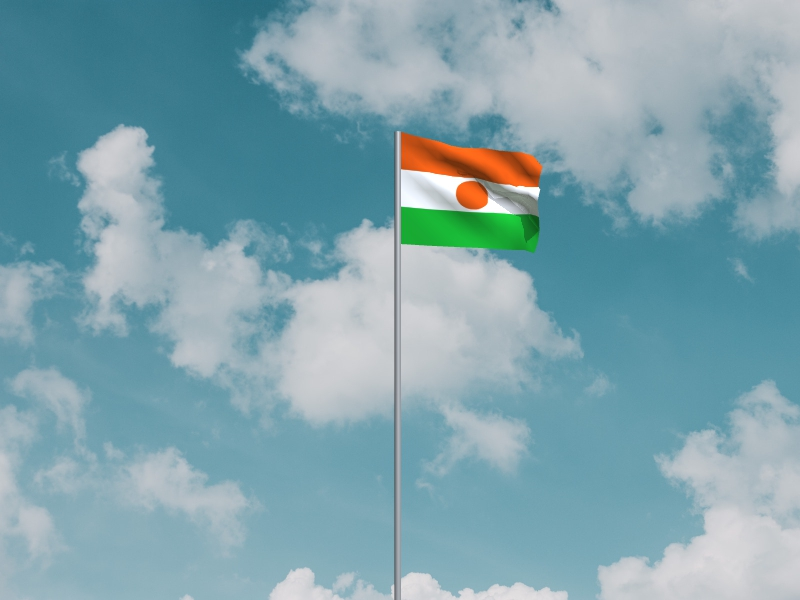ne: (402, 133, 542, 255)
